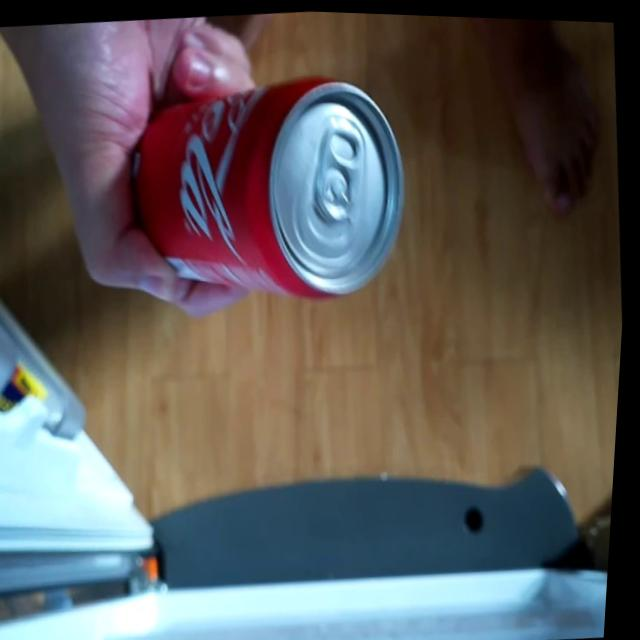coke: (111, 48, 430, 336)
